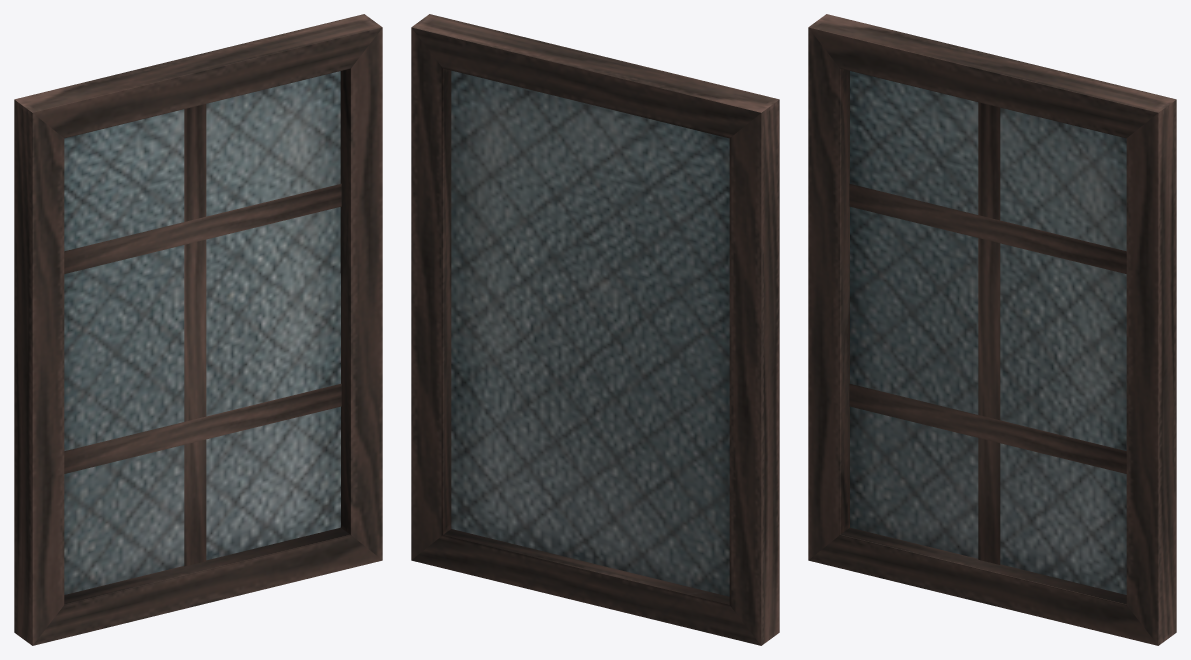
Rendered from Window_3x1.5.fbx.
3 views of the same model, side by side, from view 1: azimuth 30°, elevation 25°; view 2: azimuth 150°, elevation 25°; view 3: azimuth 330°, elevation 25° (orthographic).
Parts seen in each view (by area): view 1: Window_3x1.5; view 2: Window_3x1.5; view 3: Window_3x1.5.
Part boxes in pixels (box(x1,y1,x2,y2)): Window_3x1.5: box(14, 14, 382, 645); Window_3x1.5: box(411, 14, 779, 645); Window_3x1.5: box(808, 14, 1176, 645).
Size of the model in its own units: 110 by 160 by 10.
